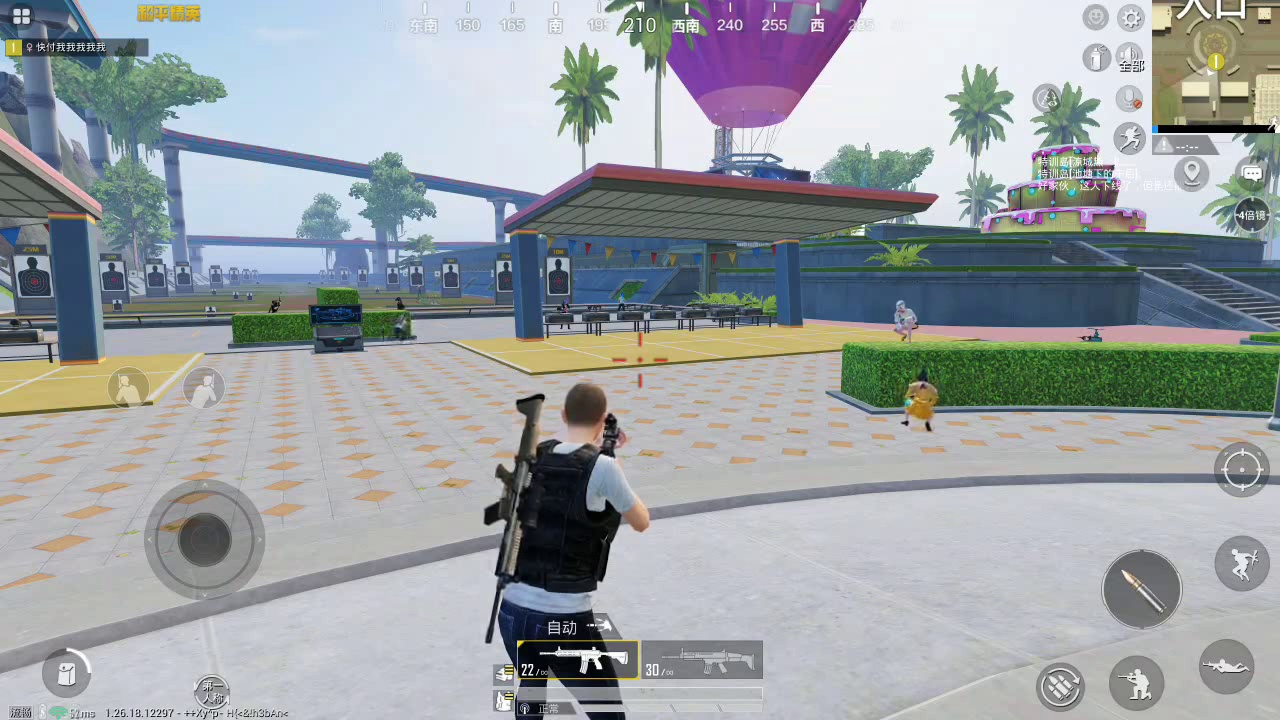enemy: (900, 366, 932, 432), (887, 297, 919, 342), (388, 314, 408, 340), (559, 297, 572, 329), (268, 295, 281, 313), (617, 293, 626, 311)
